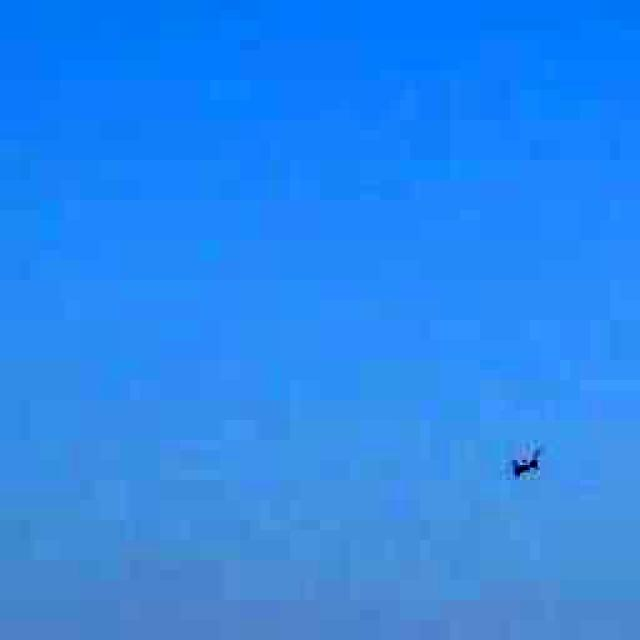bird: (491, 419, 559, 499)
